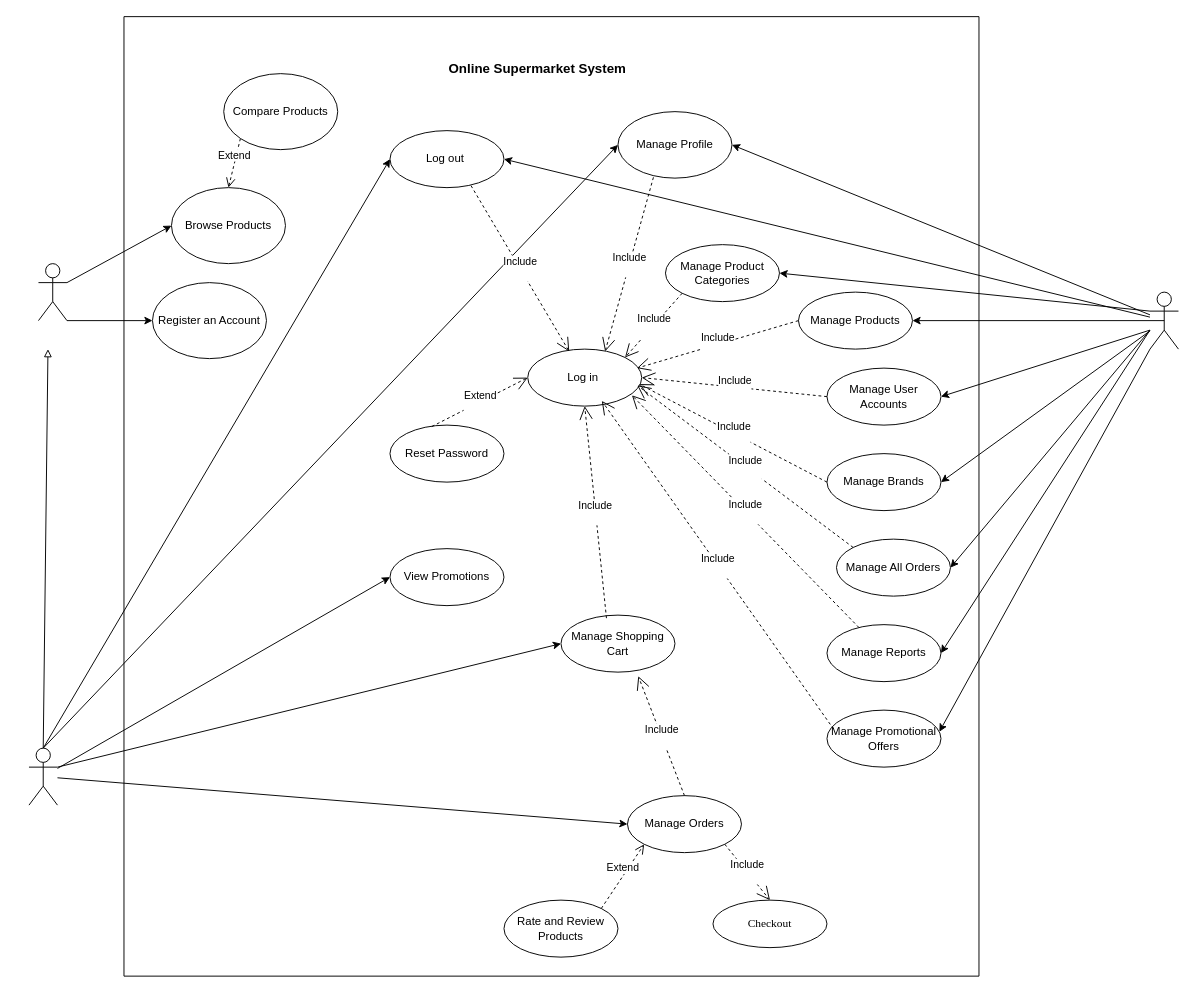
Some shapes in this 1198 by 993 pixel diagram are drawn without their labels. Here are the shapes that lost their labels. From the top down, the centre of each, then its label:
pixel 52 292: Guest
pixel 1163 320: Admin
pixel 42 776: Customer
